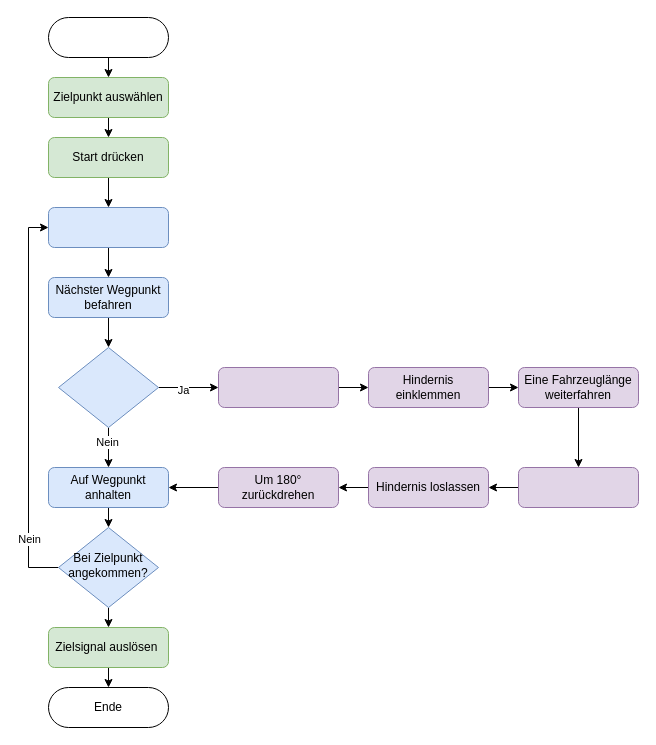
The diagram is 656 pixels wide and 745 high, and some of its shapes have lost their labels. The centre of each missing label's shape, as x and y in pixels:
Hindernis auf Strecke?: the point at 108,387
Hindernisse erkennen: the point at 108,227
Start: the point at 108,37
Um 180° drehen: the point at 578,487
Vor Hindernis anhalten: the point at 278,387
